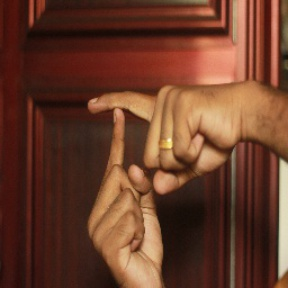T: (75, 80, 175, 211)
